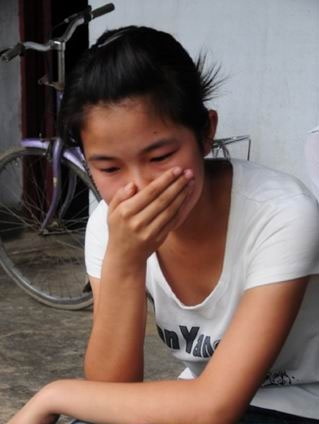face: (88, 102, 193, 234)
